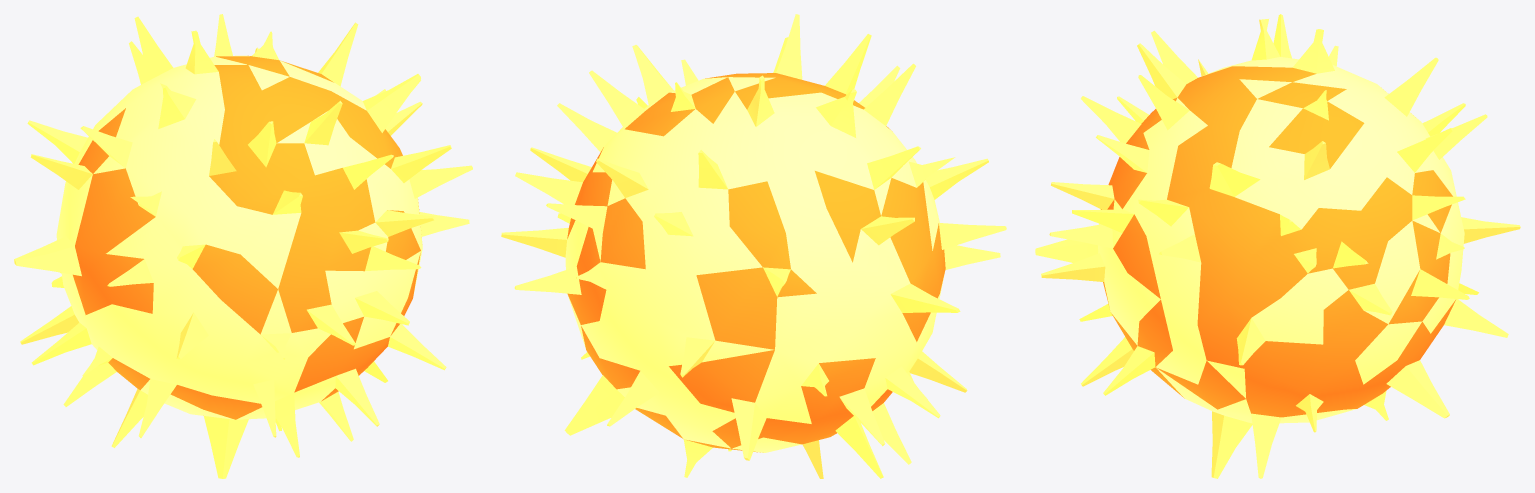
The model's file is planet-13.glb.
3 renders of one model, left to right at view 1: azimuth 30°, elevation 25°; view 2: azimuth 150°, elevation 25°; view 3: azimuth 270°, elevation 25°, orthographic. The views are drawn at different scales.
Parts seen in each view (by area): view 1: Toy_Planet_8_Toy_Planets_0; view 2: Toy_Planet_8_Toy_Planets_0; view 3: Toy_Planet_8_Toy_Planets_0.
Part boxes in pixels (left/top/right/bottom): Toy_Planet_8_Toy_Planets_0: left=14, top=14, right=472, bottom=478; Toy_Planet_8_Toy_Planets_0: left=501, top=14, right=1006, bottom=478; Toy_Planet_8_Toy_Planets_0: left=1035, top=14, right=1520, bottom=478.
Bounding box in the file's own units: 2.65 × 2.5 × 2.65.
Materials: 1 (1 with a texture image).
